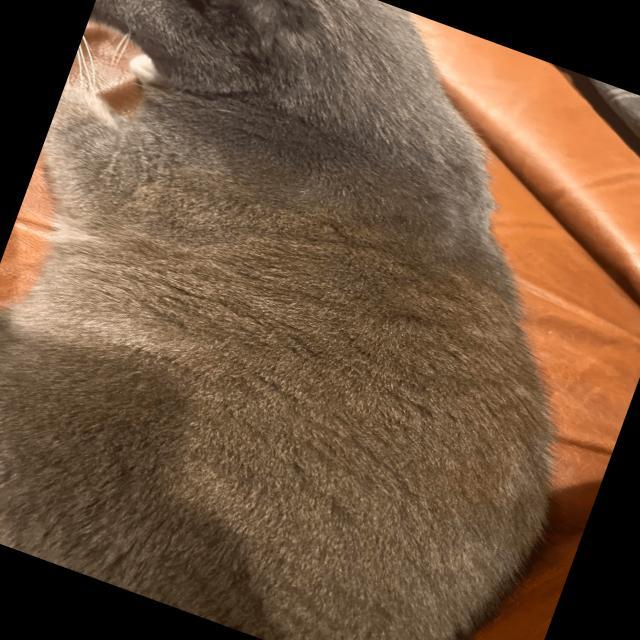Healthy skin: (3, 320, 379, 623), (122, 98, 418, 342), (196, 0, 380, 146), (386, 473, 524, 602), (388, 350, 502, 445)
